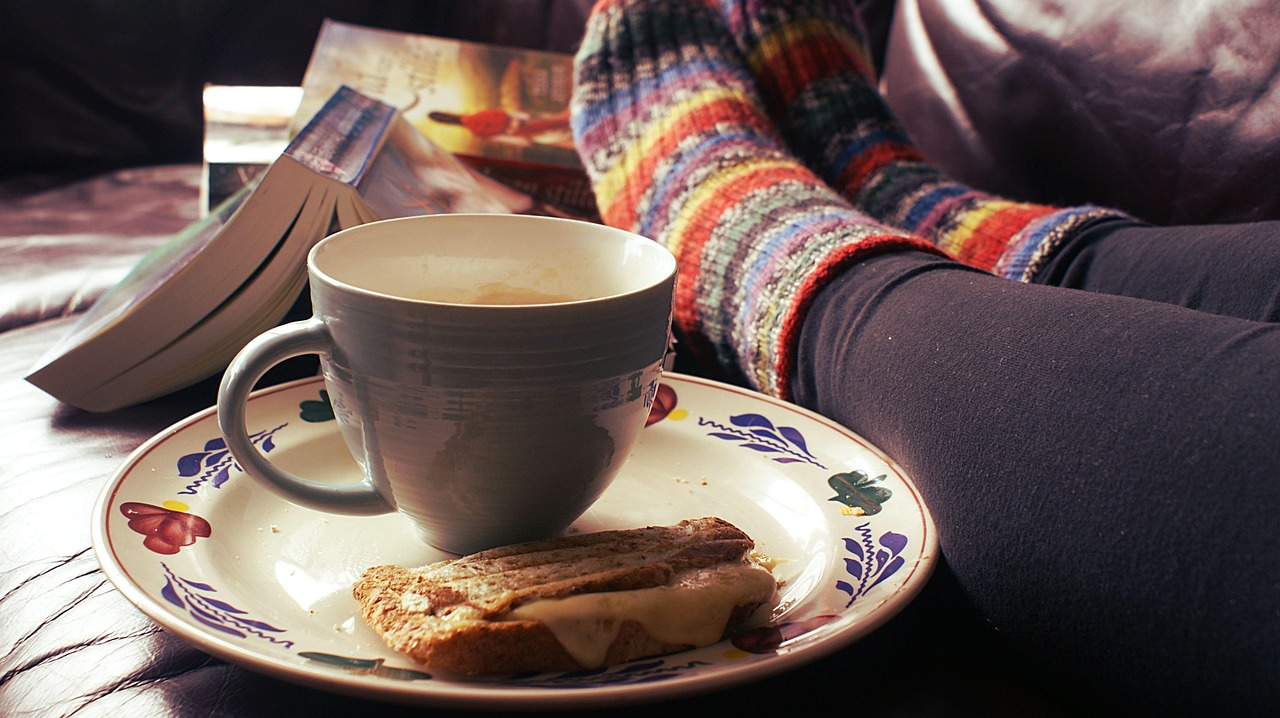mug: (187, 198, 697, 583)
